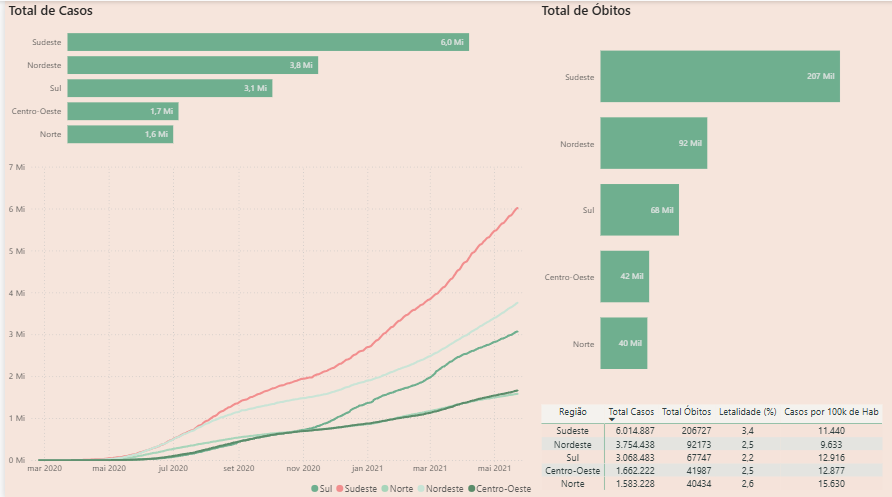

The page's visual inventory and layout, read from the dashboard file:
{"tool":"powerbi","page":{"name":"Comparativo Regional","canvas":[1280,720],"ordinal":1},"visuals":[{"type":"clusteredBarChart","title":"Total de Casos","fields":{"Category":["Estado.Regiao"],"Y":["Medidas Principais.Total Casos na Ultima Data"]},"box":[0,0,768,224],"z":0},{"type":"clusteredBarChart","title":"Total de Óbitos","fields":{"Category":["Estado.Regiao"],"Y":["Medidas Principais.Total Óbitos na Ultima Data"]},"box":[768,0,512,576],"z":1000},{"type":"pivotTable","fields":{"Rows":["Estado.Regiao"],"Values":["Medidas Principais.Total Casos na Ultima Data","Medidas Principais.Total Óbitos na Ultima Data","Medidas Principais.Letalidade %","Max(covid19 vw_fato_covid.casos_por_100k_hab)"]},"box":[768,576,512,144],"z":2000},{"type":"lineChart","fields":{"Series":["covid19 vw_fato_covid.region"],"Category":["covid19 vw_fato_covid.date"],"Y":["Medidas Principais.Total Casos na Ultima Data"]},"box":[0,224,768,496],"z":3000}]}

Visuals, with their boxes in screenshot pixels (x1, y1, x2, y2), scaled from the page's 1280x720 canvas onto the 892x497 screenshot:
"Total de Casos" clusteredBarChart: <bbox>0, 0, 535, 155</bbox>
"Total de Óbitos" clusteredBarChart: <bbox>535, 0, 891, 398</bbox>
pivotTable - Estado.Regiao x Medidas Principais.Total Casos na Ultima Data: <bbox>535, 398, 891, 496</bbox>
lineChart - covid19 vw_fato_covid.region x covid19 vw_fato_covid.date: <bbox>0, 155, 535, 496</bbox>
